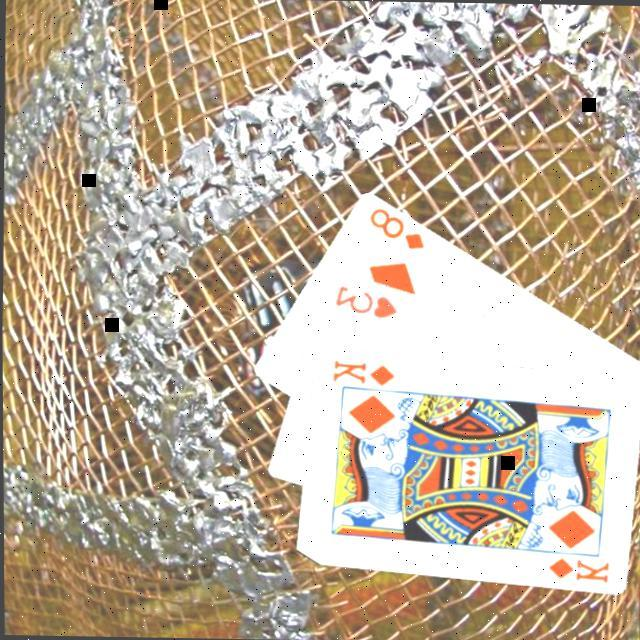3H: (331, 280, 402, 320)
8D: (366, 202, 429, 252)
KD: (328, 354, 399, 387), (545, 552, 613, 584)
